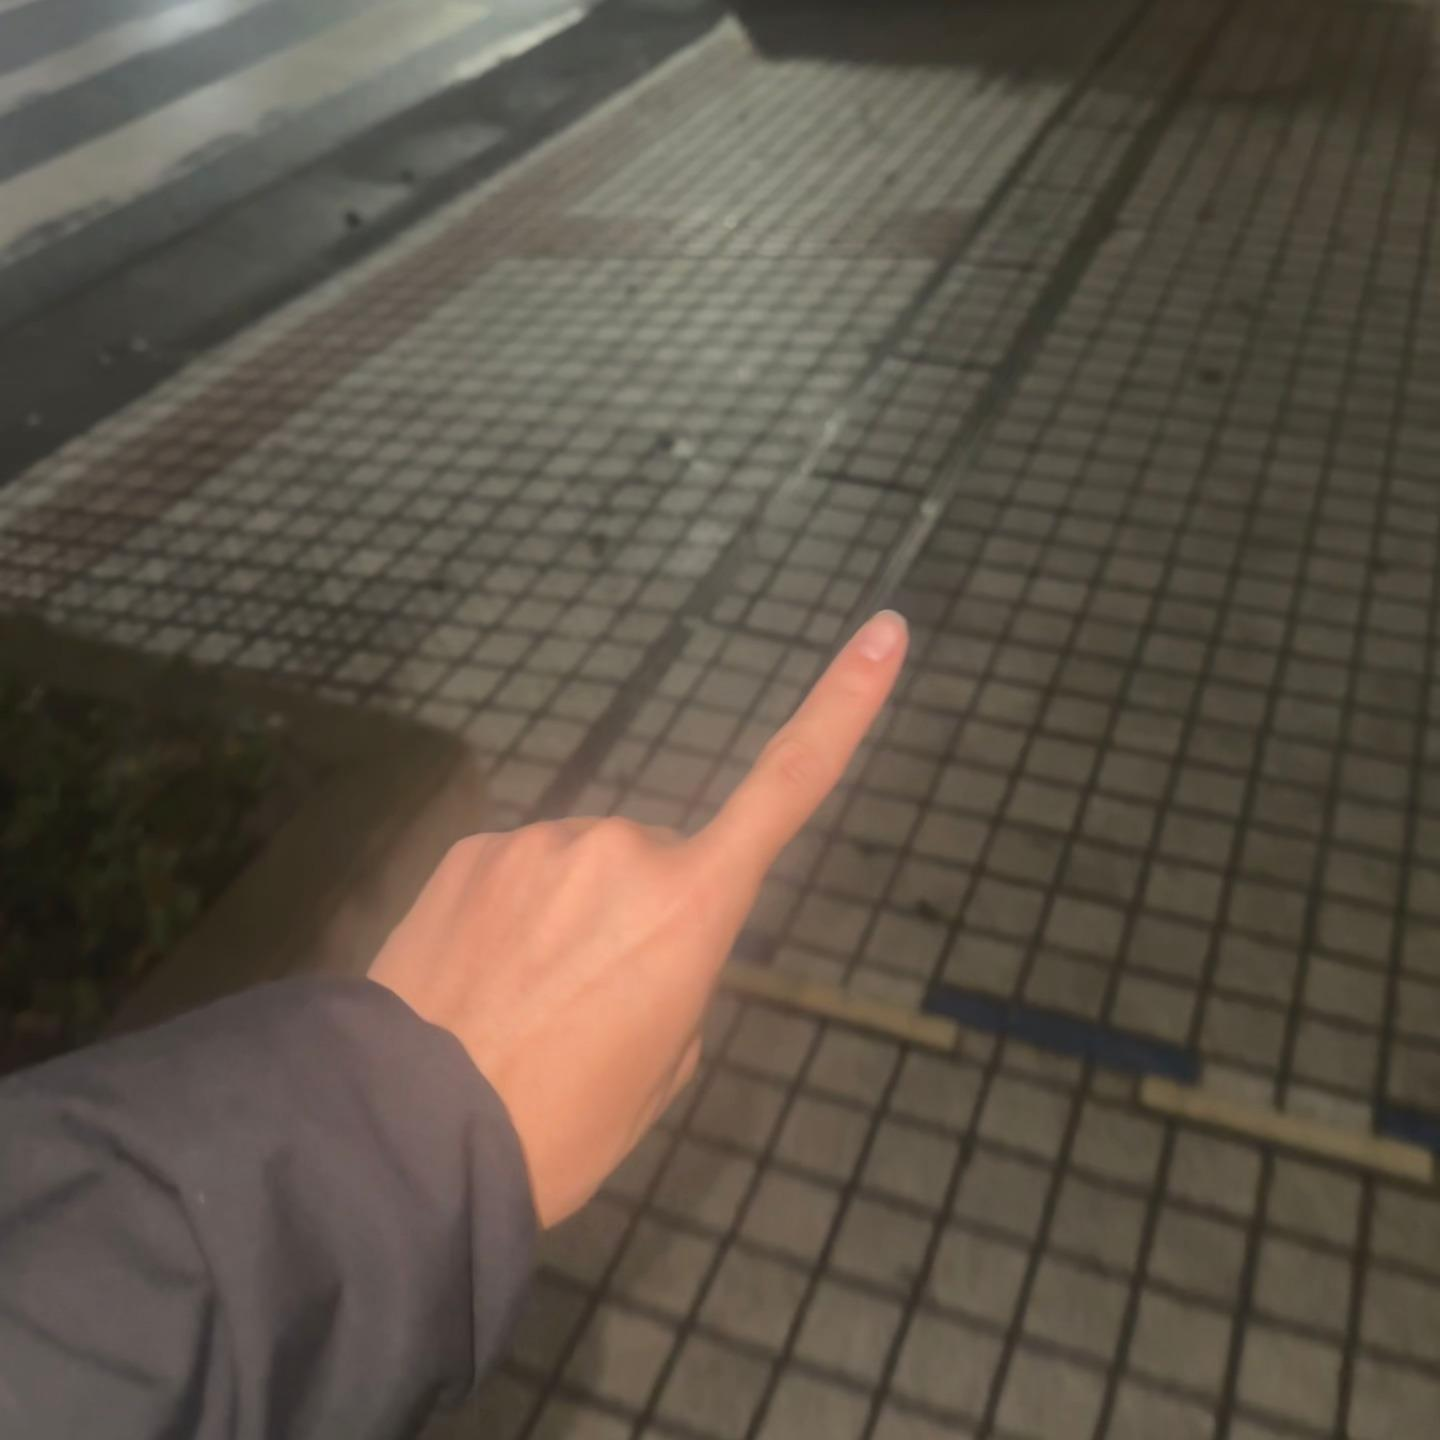without_gloves: (357, 575, 897, 1192)
